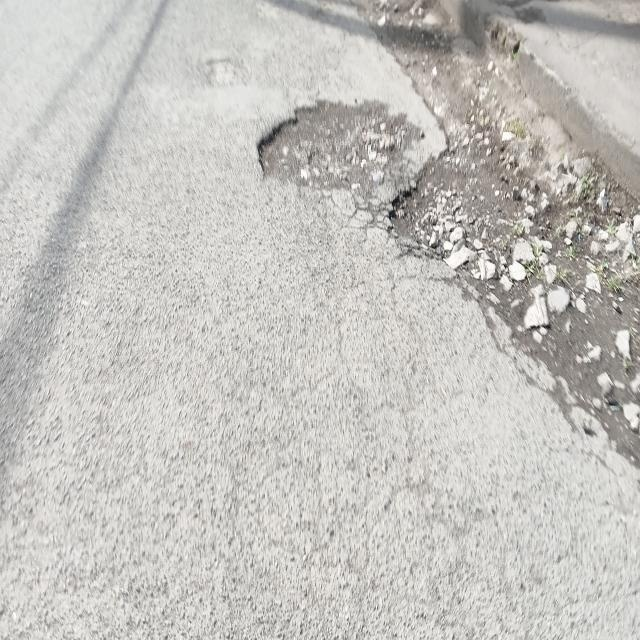pothole: (245, 74, 640, 422)
